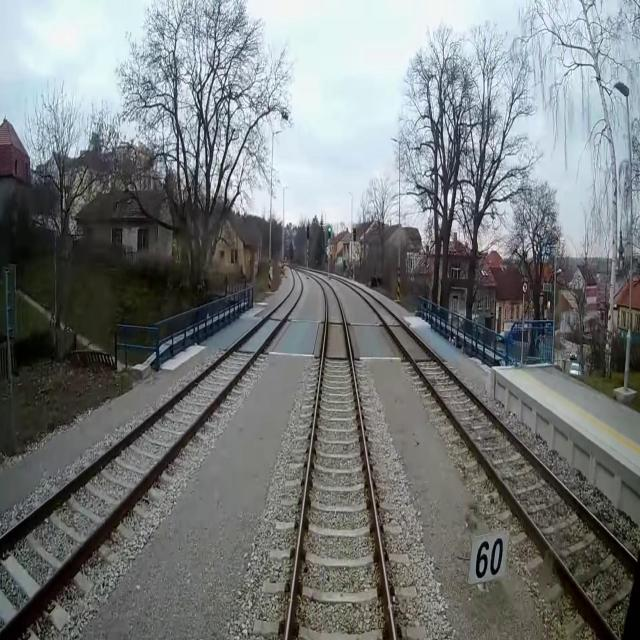rail-track: (0, 265, 301, 626), (354, 286, 636, 635), (289, 279, 391, 639)
